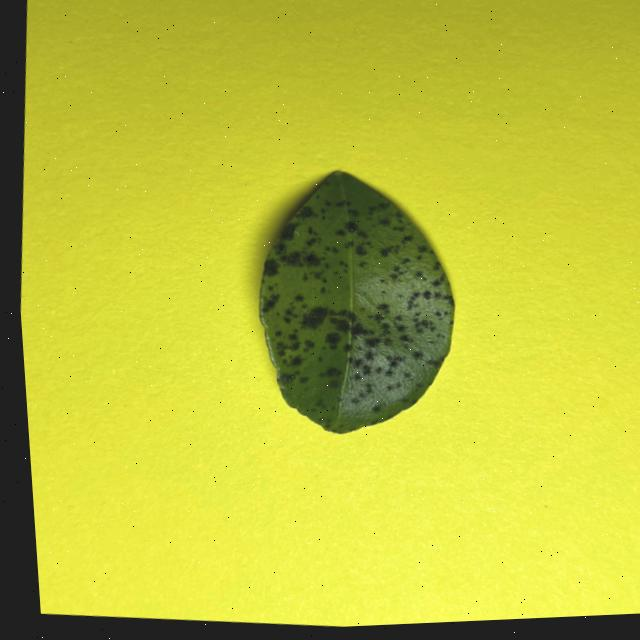sooty_mold: (260, 172, 454, 433)
